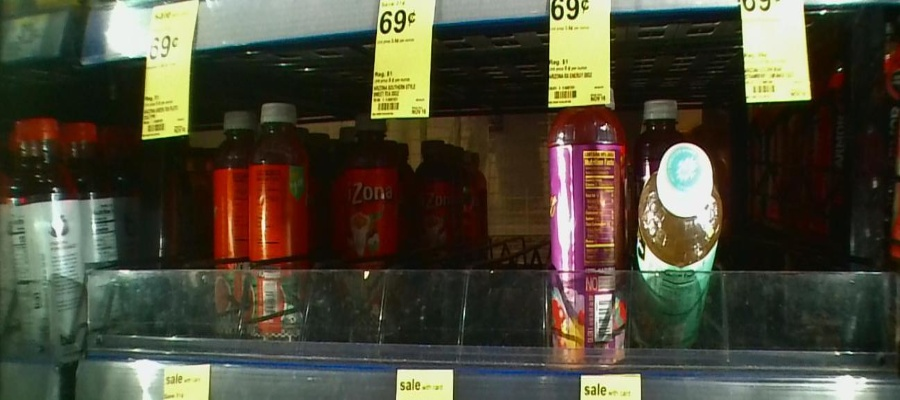bottle: (545, 64, 631, 374), (638, 146, 722, 369), (340, 109, 403, 357), (251, 98, 312, 351), (208, 102, 248, 336)
